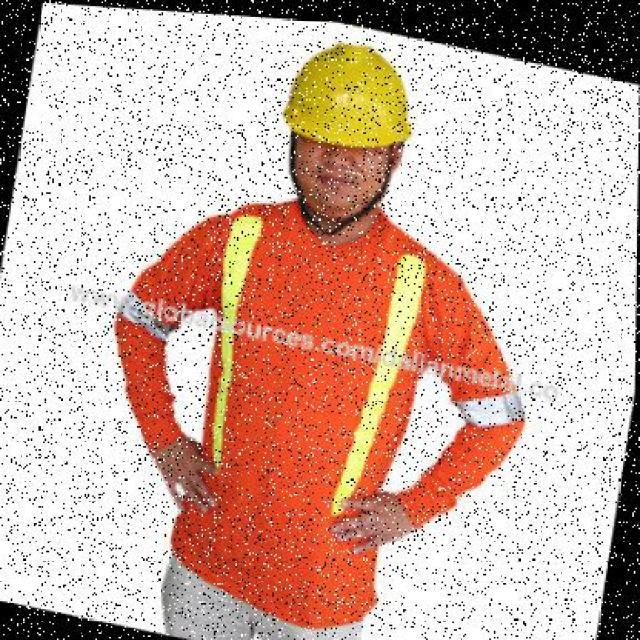helmet: (268, 23, 426, 165)
vest: (86, 157, 503, 639)
